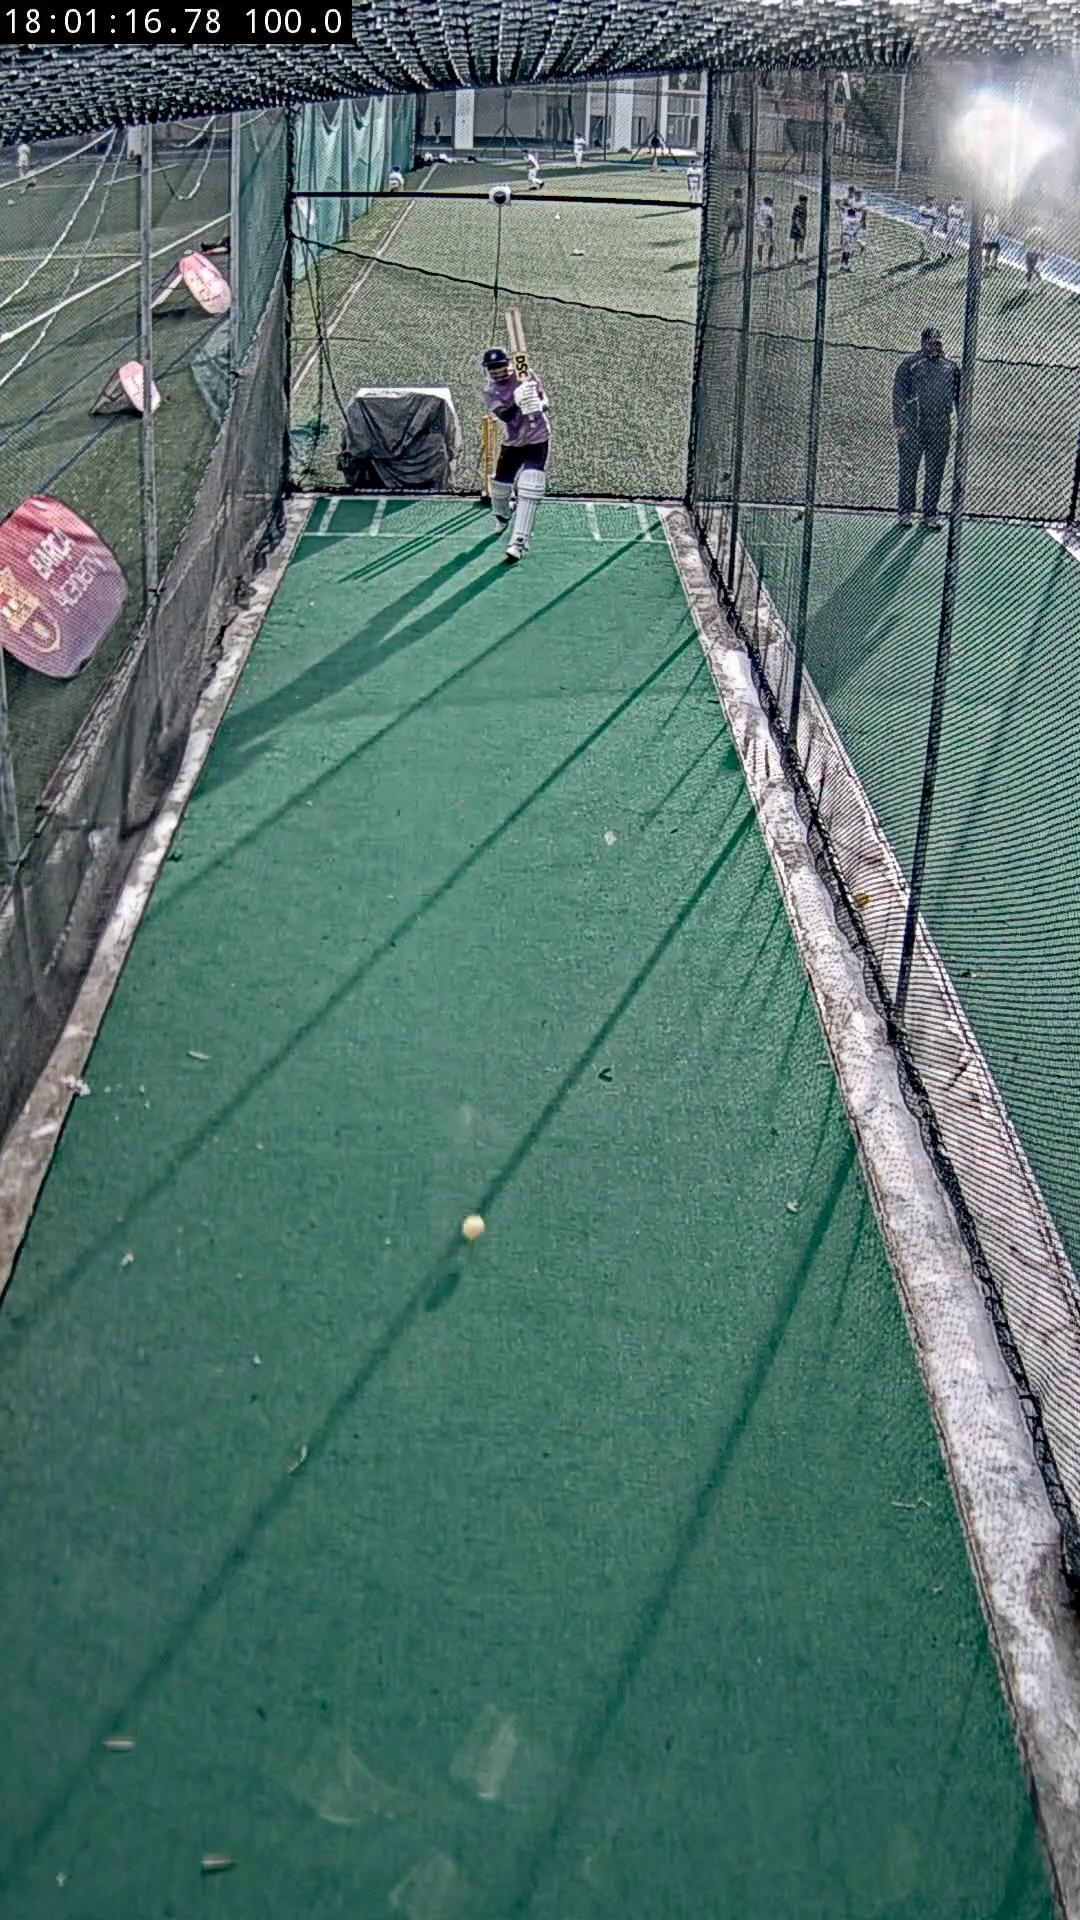ball: (462, 1215, 488, 1241)
bat: (506, 307, 529, 378)
gloves: (514, 378, 543, 417)
helmet: (480, 348, 510, 372)
pads: (514, 468, 547, 547), (488, 480, 514, 521)
stumps: (480, 413, 498, 493)
